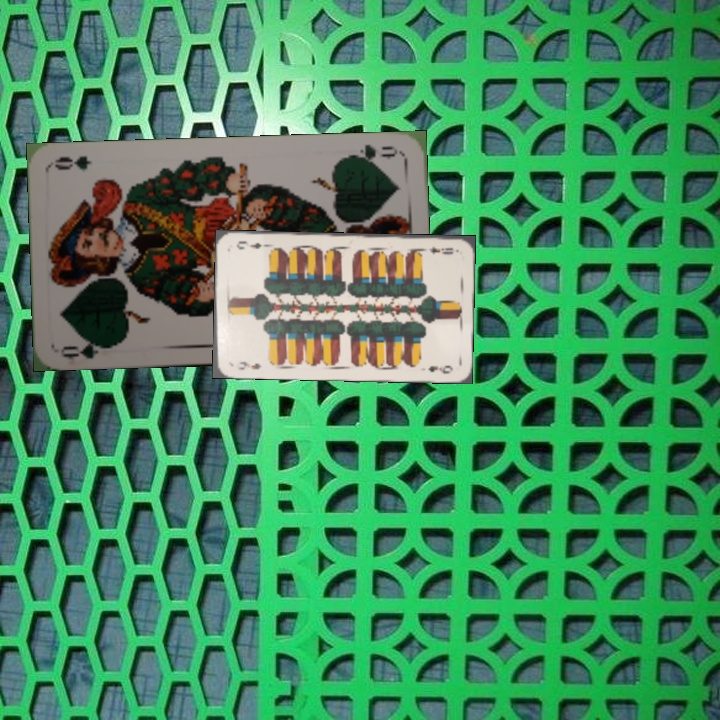E9: (425, 242, 456, 257), (234, 358, 263, 372)
GO: (58, 334, 117, 361), (342, 140, 400, 166)
